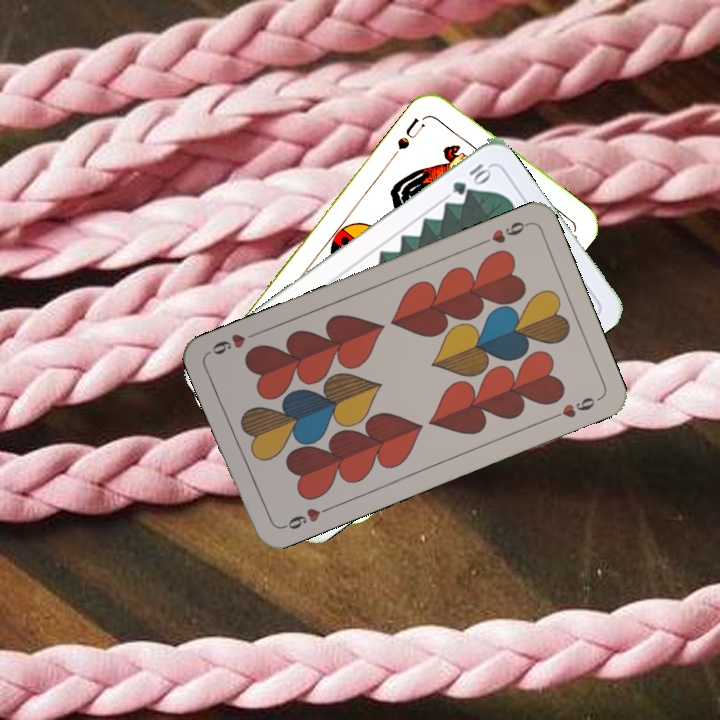G10: (448, 159, 494, 198)
H9: (475, 217, 531, 248), (277, 502, 333, 532)
SU: (393, 113, 428, 153)
